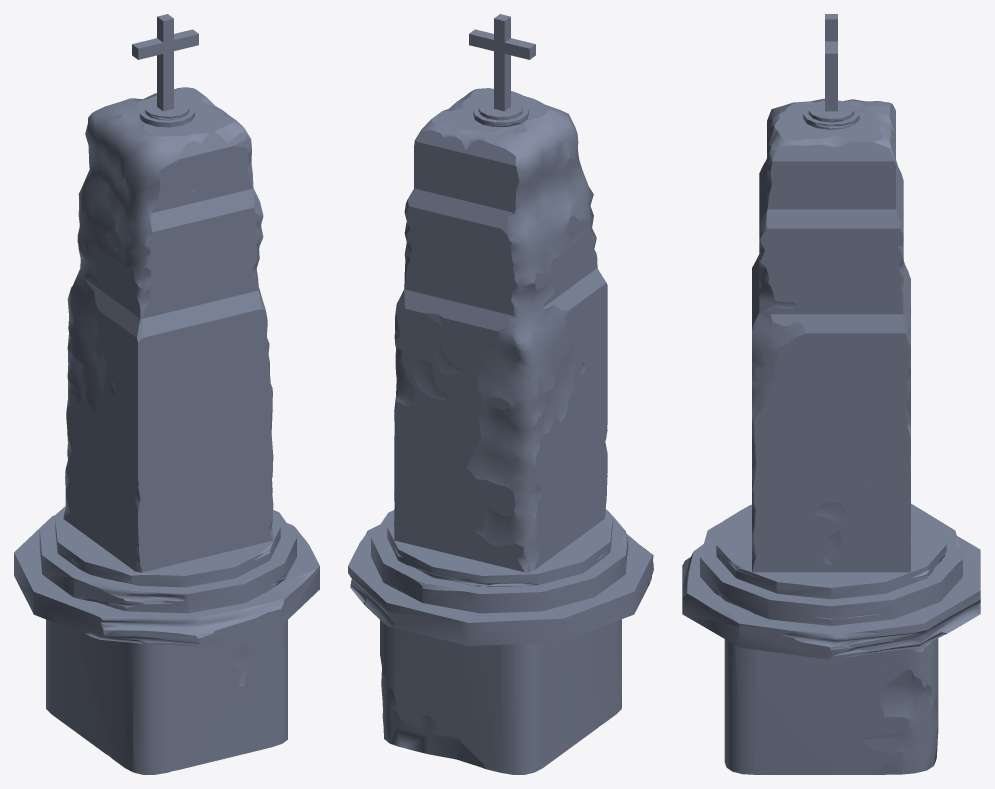
The model's file is solitudeobject2.FBX.
The picture shows the model from 3 angles, left to right: view 1: azimuth 30°, elevation 25°; view 2: azimuth 150°, elevation 25°; view 3: azimuth 270°, elevation 25°; orthographic projection.
Parts seen in each view (by area): view 1: Box002, Box001, Cylinder001, Cylinder002, Cylinder003, Box004, Cylinder004, Cylinder005; view 2: Box002, Box001, Cylinder001, Cylinder002, Cylinder003, Box004, Cylinder004, Cylinder005; view 3: Box002, Box001, Cylinder001, Cylinder002, Cylinder003, Box004, Cylinder004, Cylinder005.
Part boxes in pixels (left/top/right/bottom): Box002: left=63, top=87, right=273, bottom=572; Box001: left=46, top=619, right=287, bottom=774; Cylinder001: left=14, top=515, right=319, bottom=646; Cylinder002: left=39, top=506, right=296, bottom=613; Cylinder003: left=55, top=510, right=280, bottom=587; Box004: left=132, top=14, right=198, bottom=111; Cylinder004: left=145, top=99, right=189, bottom=120; Cylinder005: left=139, top=102, right=194, bottom=127; Box002: left=394, top=88, right=607, bottom=572; Box001: left=380, top=619, right=621, bottom=774; Cylinder001: left=348, top=524, right=653, bottom=646; Cylinder002: left=371, top=509, right=628, bottom=613; Cylinder003: left=387, top=513, right=612, bottom=587; Box004: left=469, top=14, right=535, bottom=111; Cylinder004: left=478, top=99, right=522, bottom=120; Cylinder005: left=473, top=102, right=528, bottom=126; Box002: left=752, top=98, right=910, bottom=572; Box001: left=724, top=638, right=938, bottom=774; Cylinder001: left=682, top=536, right=980, bottom=659; Cylinder002: left=700, top=511, right=962, bottom=625; Cylinder003: left=716, top=503, right=946, bottom=599; Box004: left=825, top=14, right=837, bottom=111; Cylinder004: left=808, top=100, right=854, bottom=122; Cylinder005: left=803, top=103, right=859, bottom=129.
Size of the model in its own units: 38.1 by 96.26 by 36.24.
